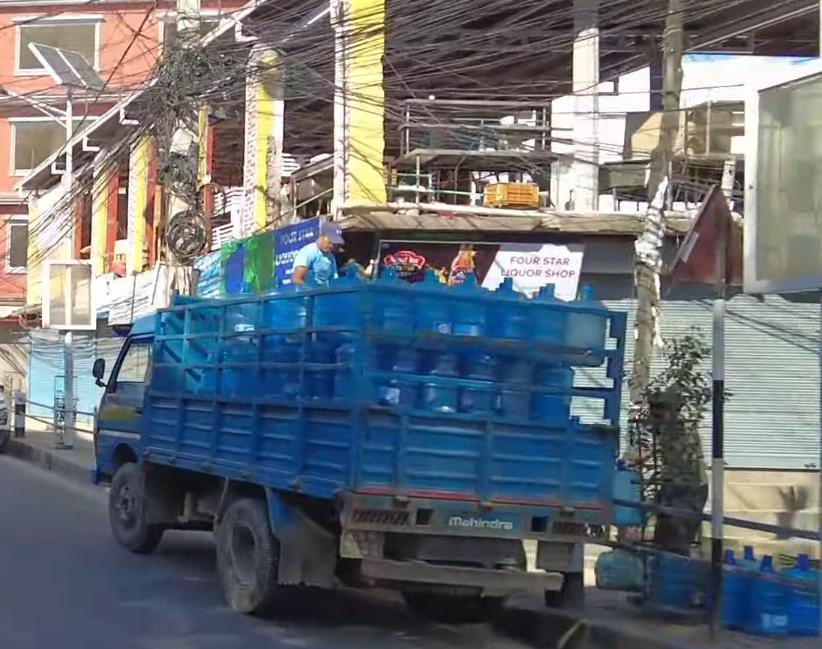mini_truck: (56, 259, 647, 619)
